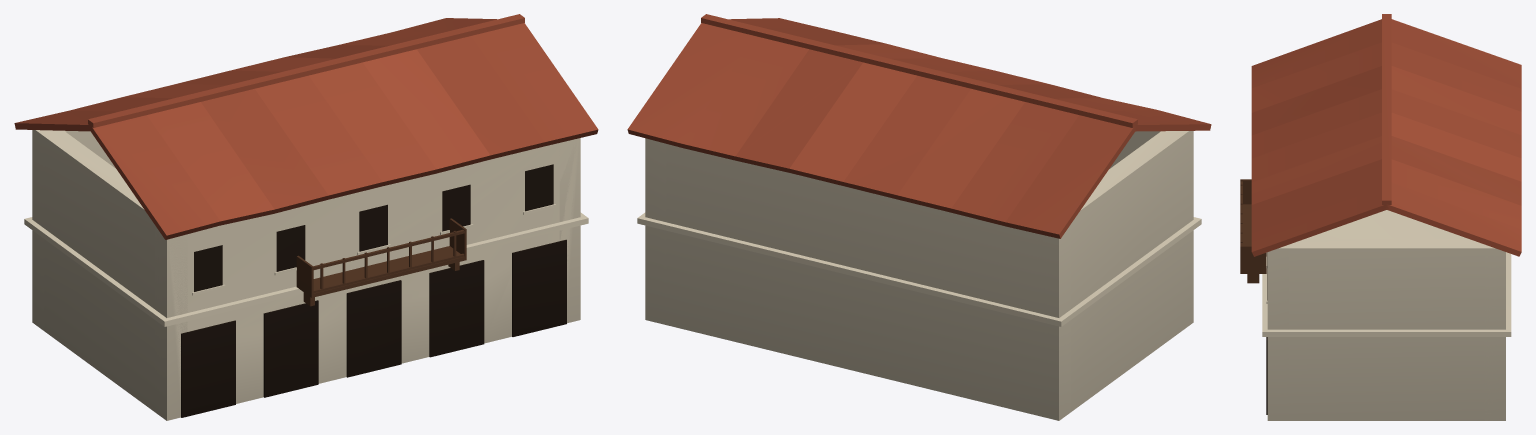
The model's file is colonial_cabildo_lod0.glb.
3 views of the same model, side by side, from view 1: azimuth 30°, elevation 25°; view 2: azimuth 150°, elevation 25°; view 3: azimuth 270°, elevation 25° (orthographic). The views are drawn at different scales.
Parts seen in each view (by area): view 1: GEO-Arch_colonial_cabildo_LOD0; view 2: GEO-Arch_colonial_cabildo_LOD0; view 3: GEO-Arch_colonial_cabildo_LOD0.
Part boxes in pixels (x1,y1,x2,y2): GEO-Arch_colonial_cabildo_LOD0: (14,14,598,420); GEO-Arch_colonial_cabildo_LOD0: (627,14,1211,420); GEO-Arch_colonial_cabildo_LOD0: (1240,14,1521,420).
Bounding box in the file's own units: 16.7 × 9.34 × 10.64.
